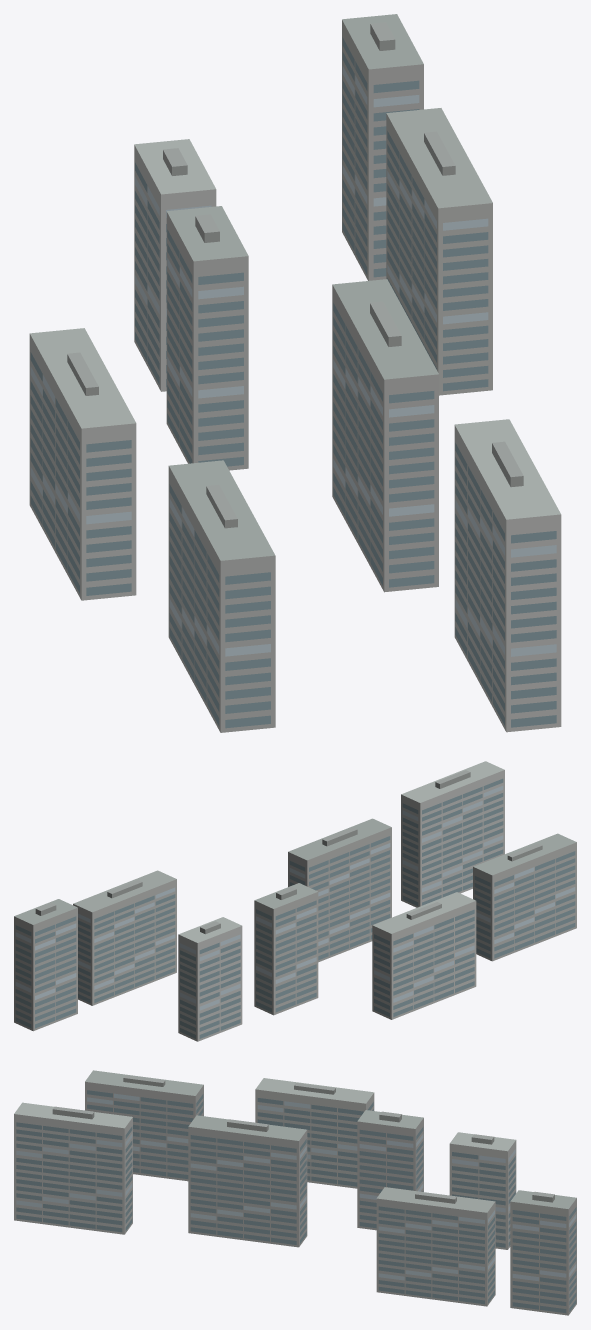
The model's file is apt-a15609003.glb.
3 renders of one model, top to bottom at view 1: azimuth 30°, elevation 25°; view 2: azimuth 150°, elevation 25°; view 3: azimuth 270°, elevation 25°, orthographic. The views are drawn at different scales.
Parts seen in each view (by area): view 1: apt-a15609003; view 2: apt-a15609003; view 3: apt-a15609003.
Part boxes in pixels (x1,y1,x2,y2): apt-a15609003: (29, 14, 561, 732); apt-a15609003: (14, 761, 576, 1041); apt-a15609003: (14, 1070, 576, 1315).
Size of the model in its own units: 129 by 42 by 192.
